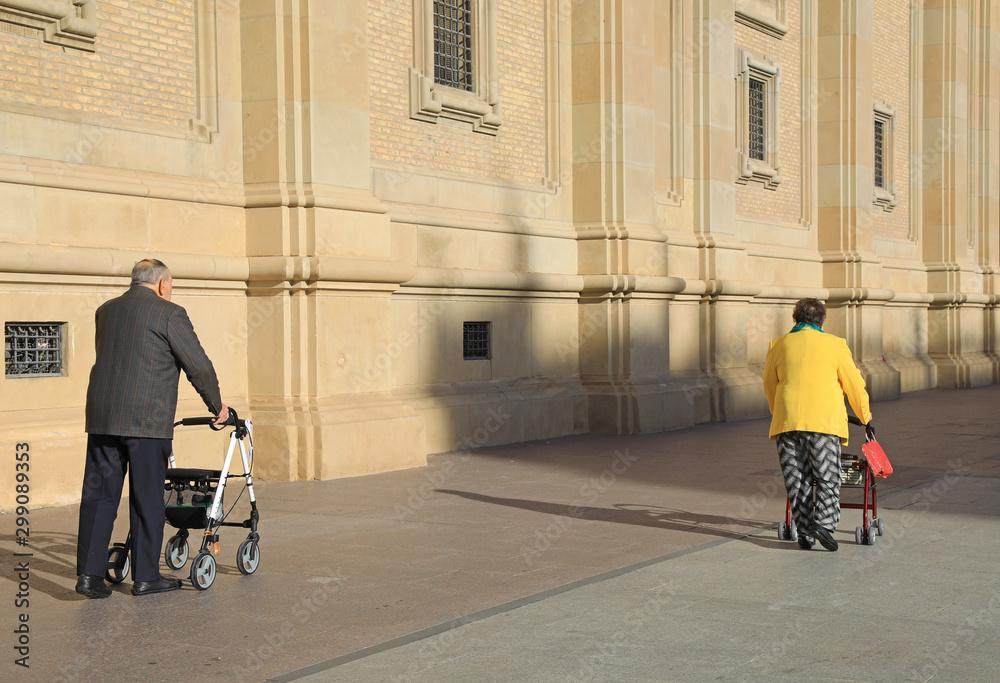walking_frame: (75, 259, 261, 598), (763, 297, 893, 552)
